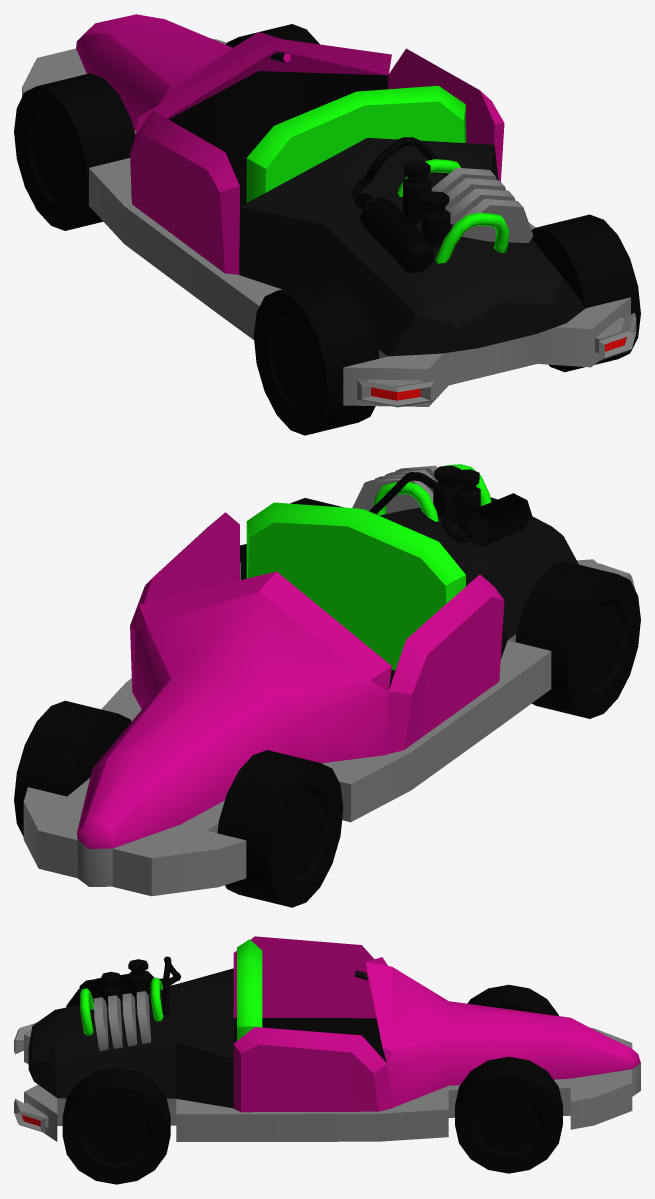
File: car-parsche-sport-green_1 (6).fbx
3 views of the same model, one above another, from view 1: azimuth 30°, elevation 25°; view 2: azimuth 150°, elevation 25°; view 3: azimuth 270°, elevation 25° (orthographic). The views are drawn at different scales.
Parts seen in each view (by area): view 1: car-parsche-sport-green_1, wheel, headlight; view 2: car-parsche-sport-green_1, wheel; view 3: car-parsche-sport-green_1, wheel.
Part boxes in pixels (x1,y1,x2,y2): car-parsche-sport-green_1: [22, 14, 636, 407]; wheel: [14, 24, 640, 435]; headlight: [371, 337, 626, 400]; car-parsche-sport-green_1: [23, 464, 635, 896]; wheel: [14, 498, 640, 907]; car-parsche-sport-green_1: [14, 936, 640, 1141]; wheel: [62, 978, 562, 1184].
Size of the model in its own units: 1.03 by 2.45 by 0.7376.
